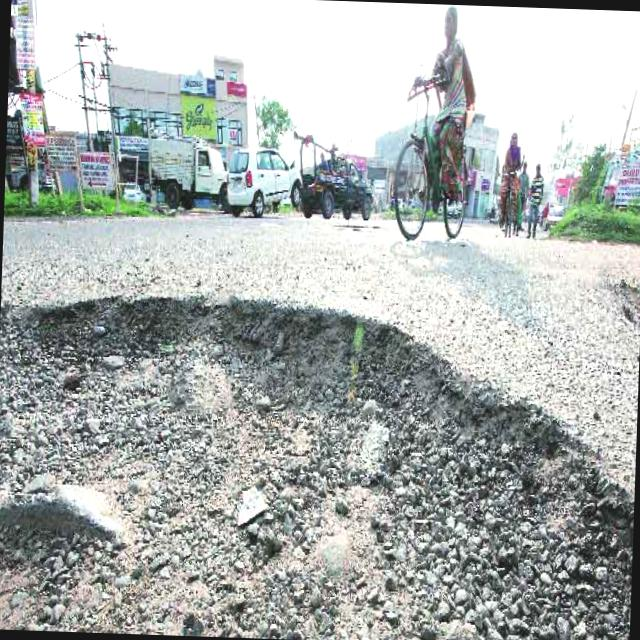bad-road: (0, 285, 640, 640), (608, 275, 640, 301)
